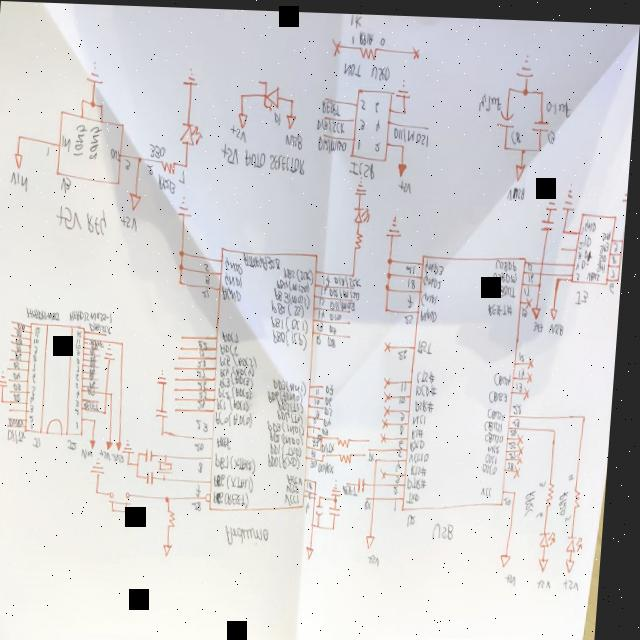capacitor: (494, 101, 516, 126), (531, 115, 550, 130), (159, 406, 174, 419), (362, 473, 372, 491), (542, 215, 556, 227), (149, 447, 159, 463), (152, 469, 161, 485), (335, 503, 347, 515), (322, 502, 330, 514)
crossover: (542, 256, 548, 262), (541, 266, 545, 272), (378, 478, 382, 484), (109, 389, 113, 395), (378, 492, 382, 498), (319, 489, 324, 493), (319, 494, 323, 498)
diode: (176, 118, 205, 149), (255, 77, 281, 110), (353, 203, 372, 223), (572, 529, 590, 550), (544, 525, 563, 544)
ground: (514, 50, 534, 76), (563, 178, 578, 208), (85, 62, 104, 85), (387, 212, 404, 237), (178, 193, 195, 217), (181, 66, 199, 86), (395, 75, 412, 96), (547, 182, 560, 208), (96, 456, 112, 475), (0, 369, 15, 388), (356, 173, 369, 193), (127, 436, 142, 453), (108, 343, 121, 361), (161, 366, 173, 385), (337, 476, 348, 494), (622, 182, 630, 198)
junction: (521, 83, 529, 93), (518, 484, 525, 494), (180, 248, 188, 256), (537, 141, 544, 150), (89, 100, 96, 108), (170, 494, 177, 502), (137, 154, 144, 162), (389, 254, 396, 262), (521, 142, 527, 151), (239, 90, 245, 98), (387, 303, 393, 311), (17, 133, 23, 141), (181, 262, 187, 270), (387, 281, 393, 289), (558, 271, 564, 279), (389, 268, 395, 276), (507, 81, 512, 90), (140, 472, 146, 479), (289, 95, 294, 103), (563, 223, 568, 231), (586, 408, 591, 416), (165, 428, 170, 436), (503, 140, 508, 148), (539, 85, 544, 93), (184, 161, 189, 169), (556, 424, 562, 430), (539, 278, 545, 284), (353, 270, 359, 276), (80, 97, 85, 104), (141, 459, 146, 466), (142, 449, 147, 456), (181, 277, 185, 285), (100, 488, 105, 494), (99, 102, 104, 108), (621, 247, 626, 253), (168, 475, 173, 481), (169, 451, 174, 457), (339, 495, 344, 501), (623, 233, 627, 240), (338, 523, 342, 529), (317, 250, 321, 256), (124, 339, 128, 345), (402, 106, 406, 112), (132, 460, 136, 466), (620, 258, 624, 264), (98, 417, 102, 423), (108, 409, 112, 415), (114, 390, 118, 396), (401, 141, 405, 147), (317, 520, 321, 526), (324, 491, 328, 497), (379, 454, 383, 460), (325, 431, 329, 437), (320, 476, 324, 482), (619, 272, 623, 277), (326, 456, 330, 461), (323, 521, 327, 525), (326, 450, 330, 454), (6, 398, 9, 403), (324, 445, 327, 449)
resistor: (161, 157, 178, 174), (358, 43, 377, 58), (172, 505, 183, 529), (552, 477, 561, 505), (355, 228, 365, 249), (578, 483, 587, 506), (344, 449, 358, 462), (341, 433, 356, 445)
source: (129, 190, 144, 211), (515, 158, 528, 178), (506, 549, 519, 565), (238, 109, 249, 127), (285, 112, 297, 128), (544, 552, 556, 568), (13, 152, 24, 168), (311, 542, 322, 558), (372, 531, 383, 547), (571, 553, 582, 569), (397, 159, 408, 174), (169, 541, 180, 556), (533, 302, 544, 315), (553, 303, 561, 316), (120, 439, 129, 450), (94, 438, 103, 448), (111, 438, 119, 449)
switch: (112, 489, 140, 512)
terminal: (329, 35, 342, 55), (411, 42, 420, 58)
text: (220, 141, 308, 173), (57, 204, 112, 234), (230, 521, 277, 545), (218, 450, 262, 472), (342, 59, 390, 78), (275, 284, 314, 307), (274, 326, 312, 349), (245, 249, 284, 269), (219, 470, 260, 489), (273, 313, 312, 332), (393, 123, 430, 142), (219, 488, 256, 507), (277, 375, 312, 394), (273, 297, 308, 316), (271, 417, 310, 434), (219, 410, 257, 427), (317, 133, 348, 153), (223, 371, 258, 388), (316, 114, 347, 133), (475, 89, 503, 110), (72, 310, 116, 323), (223, 352, 261, 367), (272, 451, 305, 468), (88, 124, 103, 161), (73, 123, 89, 157), (274, 429, 310, 444), (274, 440, 309, 455), (271, 387, 308, 401), (278, 278, 314, 292), (283, 264, 316, 279), (545, 95, 572, 113), (221, 395, 253, 410), (331, 284, 364, 298), (348, 158, 375, 175), (437, 519, 461, 538), (28, 308, 63, 321), (224, 363, 259, 376), (490, 298, 516, 315), (222, 385, 256, 398), (494, 280, 519, 297), (10, 171, 31, 191), (281, 407, 308, 422), (120, 213, 141, 232), (229, 121, 248, 142), (320, 97, 341, 115), (336, 272, 365, 285), (496, 254, 521, 269), (223, 284, 245, 301), (227, 254, 246, 273), (225, 270, 246, 287), (282, 398, 309, 411), (418, 381, 443, 395), (92, 320, 117, 334), (417, 395, 440, 410), (12, 428, 32, 445), (506, 182, 527, 198), (530, 485, 542, 513), (158, 176, 179, 192), (424, 271, 445, 287), (495, 268, 520, 281), (564, 485, 576, 512), (497, 366, 516, 383), (284, 131, 304, 147), (422, 304, 442, 320), (426, 257, 447, 272), (492, 386, 513, 401), (333, 297, 359, 309), (423, 287, 442, 303), (148, 143, 167, 158), (319, 459, 340, 472), (489, 426, 510, 439), (222, 341, 243, 354), (357, 26, 373, 43), (420, 367, 440, 380), (491, 404, 511, 417), (420, 336, 436, 352), (577, 284, 592, 301), (220, 433, 237, 448), (488, 416, 509, 428), (412, 474, 431, 487), (569, 574, 588, 587), (414, 449, 436, 460), (199, 416, 214, 432), (486, 457, 503, 471), (225, 329, 243, 342), (291, 470, 309, 483), (414, 461, 433, 473), (290, 490, 306, 504), (12, 417, 31, 428), (61, 133, 72, 152), (551, 319, 567, 332), (347, 481, 363, 494), (510, 125, 523, 141), (61, 176, 74, 192), (414, 435, 430, 448), (416, 411, 433, 423), (88, 399, 105, 411), (399, 176, 413, 190), (586, 213, 599, 228), (543, 574, 559, 586), (416, 423, 430, 436), (110, 146, 122, 161), (588, 266, 603, 278), (326, 439, 341, 451), (349, 11, 360, 27), (413, 489, 426, 502), (485, 481, 498, 494), (511, 569, 524, 582), (85, 446, 98, 459), (374, 551, 388, 563), (116, 451, 131, 462), (547, 125, 557, 141), (490, 448, 503, 460), (104, 448, 117, 460), (412, 510, 423, 524), (93, 337, 108, 347), (291, 481, 306, 491), (273, 108, 282, 124), (601, 236, 612, 249), (329, 380, 340, 393), (123, 156, 133, 170), (409, 289, 417, 306), (179, 168, 188, 183), (72, 438, 83, 450), (37, 436, 48, 448), (493, 439, 505, 450), (516, 398, 527, 410), (536, 316, 547, 328), (401, 345, 412, 357), (91, 385, 104, 395), (197, 499, 208, 510), (599, 248, 610, 259), (199, 440, 210, 451), (201, 378, 212, 389), (200, 366, 211, 377), (201, 337, 212, 348), (598, 257, 608, 269), (407, 309, 417, 321), (330, 333, 340, 345), (586, 244, 595, 257), (585, 230, 594, 243), (325, 271, 334, 284), (374, 117, 382, 131), (201, 481, 209, 495), (603, 225, 613, 236), (408, 261, 418, 272), (201, 397, 211, 408), (202, 388, 213, 398), (583, 254, 592, 266), (147, 162, 156, 174), (370, 496, 379, 508), (410, 274, 419, 286), (329, 392, 338, 404), (319, 318, 328, 330), (320, 306, 329, 318), (332, 320, 341, 332), (204, 285, 213, 297), (611, 277, 619, 290), (332, 310, 345, 318), (508, 492, 518, 502), (18, 350, 28, 360), (328, 403, 337, 414), (201, 357, 212, 366), (374, 97, 381, 111), (311, 498, 318, 512), (526, 280, 534, 292), (373, 447, 381, 459), (400, 457, 407, 470), (516, 413, 525, 423), (513, 436, 522, 446), (314, 456, 323, 466), (17, 370, 26, 380), (570, 508, 578, 519), (519, 377, 527, 388), (317, 434, 325, 445), (323, 282, 331, 293), (205, 260, 213, 271), (202, 346, 210, 357), (375, 139, 382, 151), (403, 407, 410, 419), (319, 331, 326, 343), (359, 96, 366, 108), (207, 272, 214, 284), (522, 362, 529, 374), (522, 346, 529, 358), (524, 302, 531, 314), (203, 460, 210, 472), (403, 392, 411, 402), (398, 482, 406, 492), (79, 397, 84, 413), (512, 456, 520, 466), (328, 414, 336, 424), (18, 392, 26, 402), (20, 322, 30, 330), (17, 359, 25, 369), (359, 115, 365, 128), (357, 136, 363, 149), (318, 393, 325, 404), (78, 404, 84, 416), (573, 468, 581, 477), (404, 421, 410, 433), (17, 382, 26, 390), (18, 337, 27, 345), (92, 372, 101, 380), (93, 365, 101, 374), (94, 353, 102, 362), (612, 263, 619, 273), (378, 34, 385, 44), (327, 424, 334, 434), (36, 344, 43, 354), (312, 477, 319, 487), (403, 435, 409, 446), (319, 405, 325, 416), (322, 293, 328, 304), (34, 393, 40, 404), (35, 384, 41, 395), (544, 474, 552, 482), (542, 506, 550, 514), (93, 380, 101, 388), (38, 325, 46, 333), (530, 269, 536, 279), (615, 237, 621, 247), (577, 267, 583, 277), (579, 245, 585, 255), (580, 236, 586, 246), (47, 144, 52, 156), (349, 30, 354, 42), (399, 496, 404, 508), (316, 446, 322, 456), (36, 352, 42, 362), (515, 424, 522, 432), (514, 447, 521, 455), (19, 329, 26, 337), (93, 360, 101, 367), (94, 343, 102, 350), (80, 329, 87, 337), (37, 336, 44, 344), (80, 387, 85, 398), (319, 384, 325, 393), (79, 380, 85, 389), (578, 256, 583, 266), (401, 471, 406, 481), (80, 419, 85, 429), (34, 403, 39, 413), (35, 361, 40, 371), (529, 259, 535, 267), (613, 250, 619, 258), (322, 430, 328, 438), (20, 343, 26, 351), (79, 342, 85, 350), (34, 414, 40, 422), (316, 423, 321, 432), (80, 347, 85, 356), (80, 372, 85, 381), (314, 487, 318, 498), (94, 348, 100, 355), (37, 331, 44, 337), (403, 446, 408, 454), (317, 414, 322, 422), (37, 372, 41, 382), (81, 363, 85, 372), (80, 336, 85, 343), (80, 356, 84, 364), (35, 422, 39, 430), (583, 220, 586, 230)
